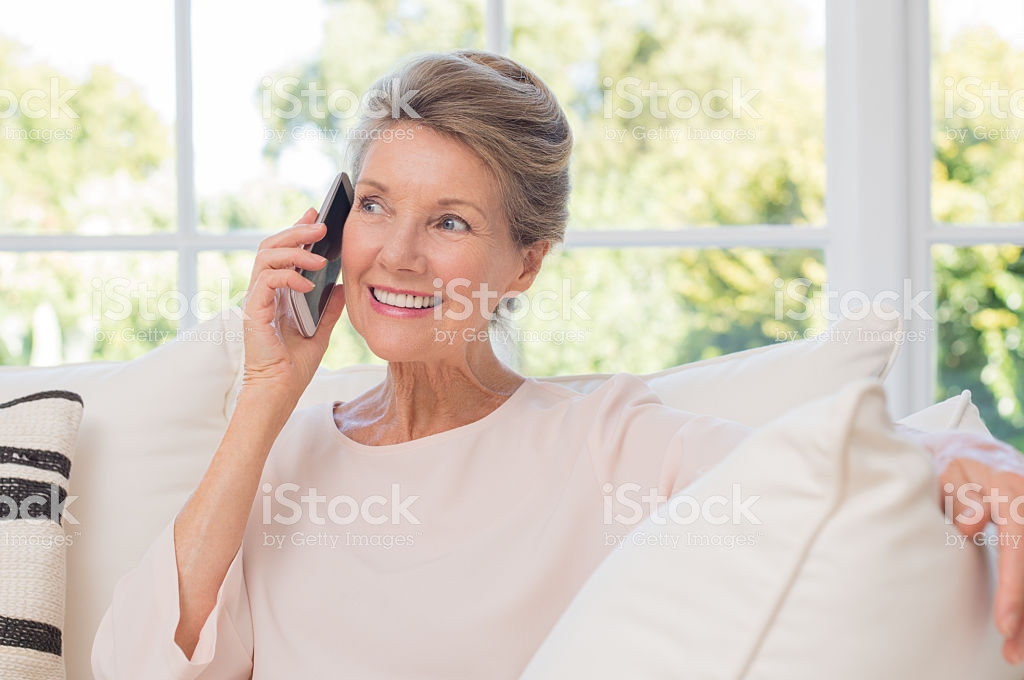phone: (248, 170, 354, 338)
talk: (219, 155, 505, 403)
